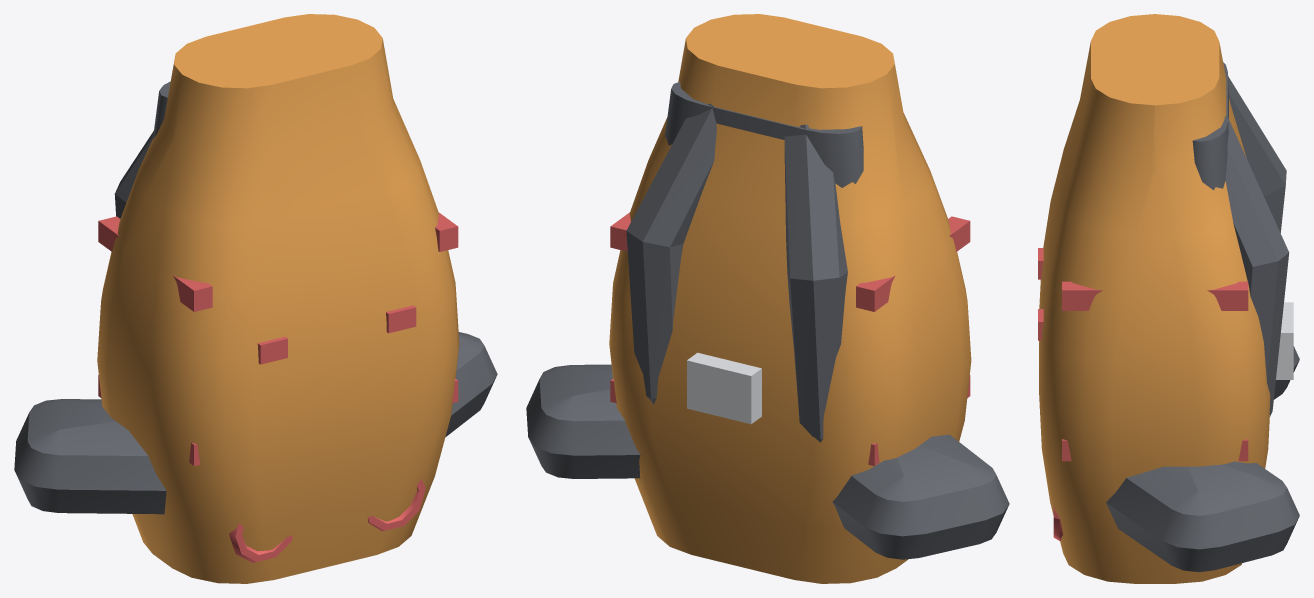
Rendered from mountaineering-and-summit-expedition-summit-pack-8409c8ba__18820.glb.
3 renders of one model, left to right at view 1: azimuth 30°, elevation 25°; view 2: azimuth 150°, elevation 25°; view 3: azimuth 270°, elevation 25°, orthographic. The views are drawn at different scales.
Visible parts, largest first — view 1: summit-pack; view 2: summit-pack; view 3: summit-pack.
Boxes of the visible parts, bbox=[...] form: summit-pack: bbox=[14, 14, 497, 583]; summit-pack: bbox=[526, 14, 1009, 583]; summit-pack: bbox=[1038, 14, 1299, 583].
Bounding box in the file's own units: 0.5117 × 0.5 × 0.2529.
